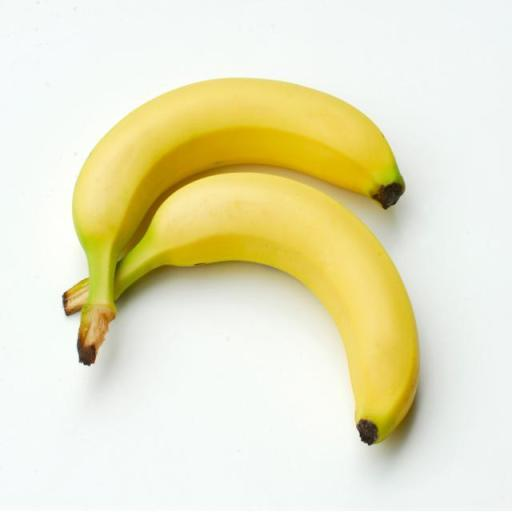fruit: (73, 79, 403, 362), (115, 172, 418, 442), (69, 282, 86, 304)
